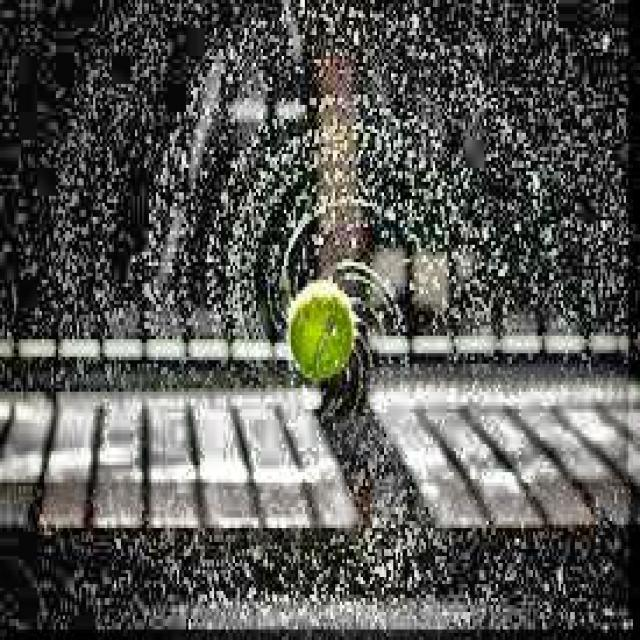tennis-ball: (284, 280, 361, 388)
